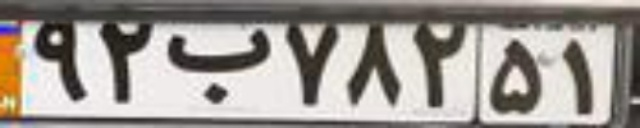1: (560, 38, 592, 115)
2: (412, 21, 468, 108), (95, 20, 153, 103)
5: (485, 37, 545, 113)
7: (283, 21, 337, 105)
8: (346, 21, 401, 106)
9: (27, 17, 86, 104)
be: (164, 26, 274, 104)
